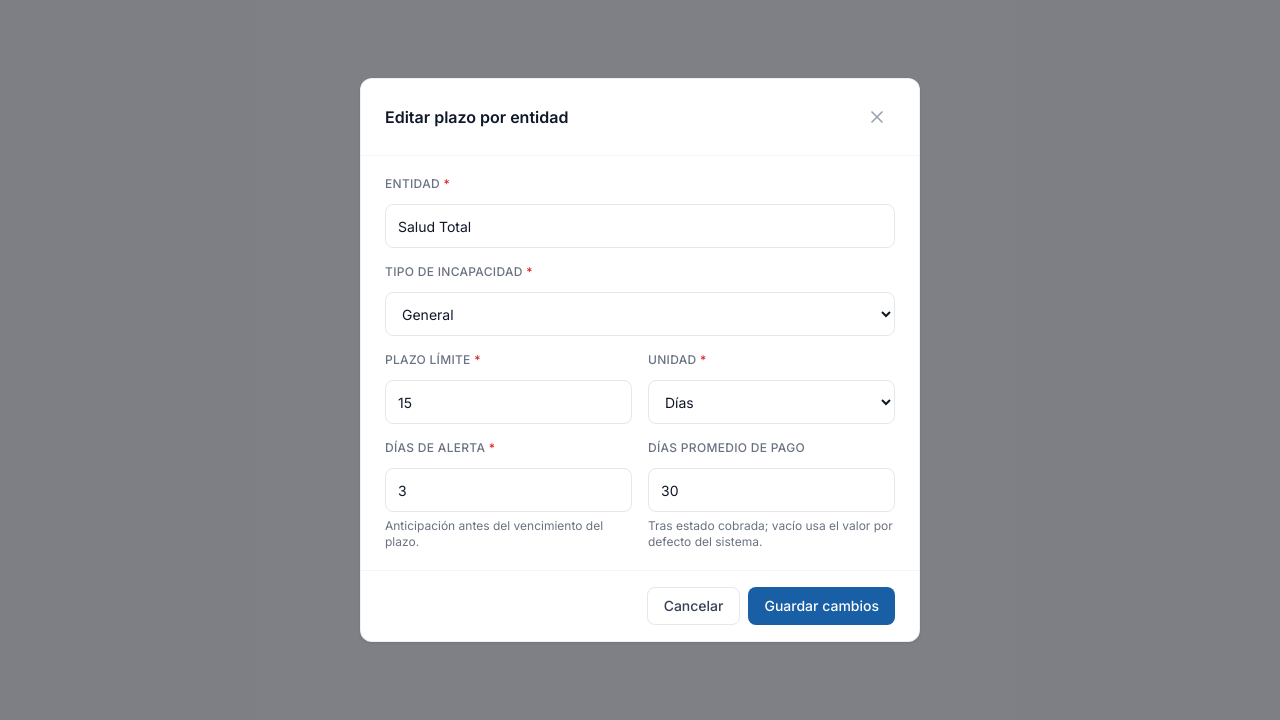
PlazoEntidadEditModal › muestra error si no hay cambios
Click the button "Guardar cambios".
click(822, 606)  # box [748,587,895,625]
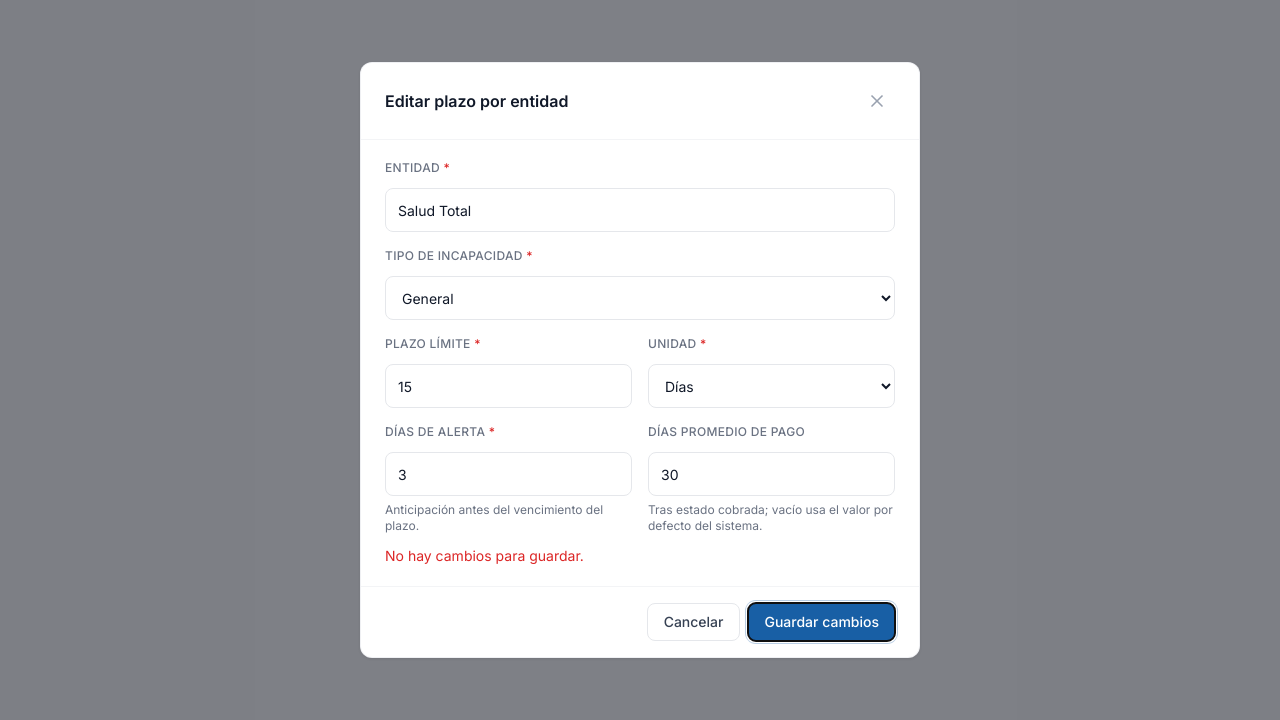
expect the message shows "No hay cambios": met, box [385,547,584,564]
